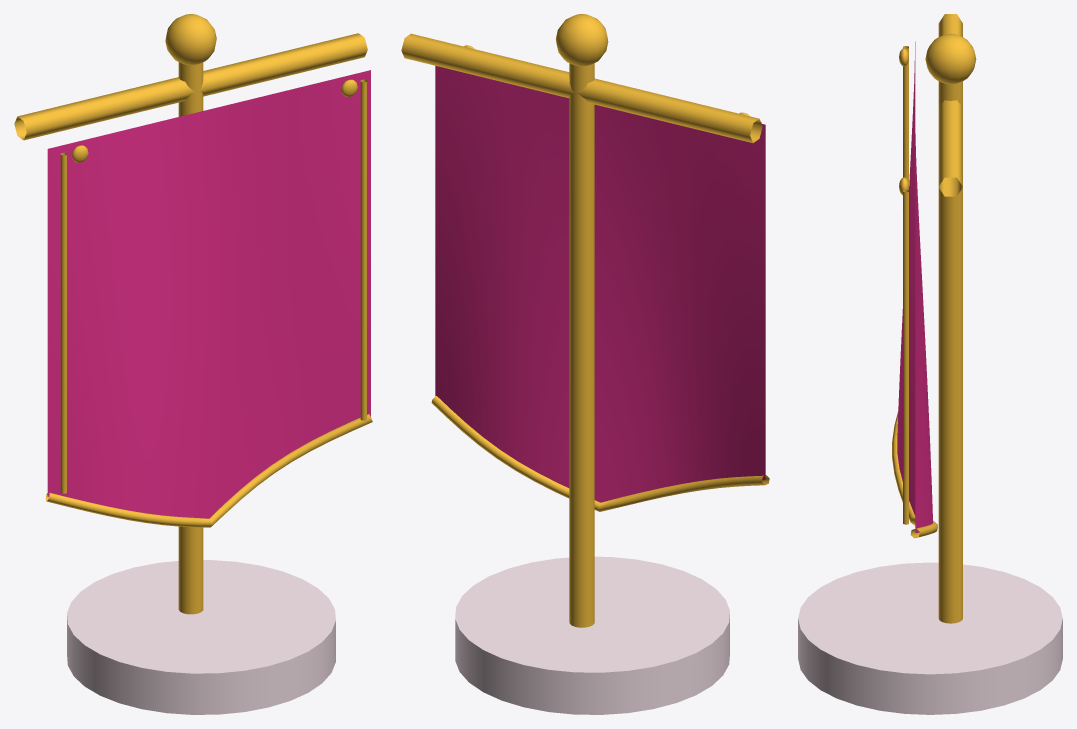
Rendered from chess.banner.house-pink.lod1.glb.
3 renders of one model, left to right at view 1: azimuth 30°, elevation 25°; view 2: azimuth 150°, elevation 25°; view 3: azimuth 270°, elevation 25°, orthographic. The views are drawn at different scales.
Parts seen in each view (by area): view 1: banner_cloth, banner_foot, crossbar, banner_hem, banner_pole, banner_edge_braid.001, banner_edge_braid, banner_finial; view 2: banner_cloth, banner_foot, banner_pole, crossbar, banner_hem, banner_finial; view 3: banner_foot, banner_pole, banner_cloth, crossbar, banner_finial, banner_edge_braid.001, banner_hem, banner_edge_braid.
Part boxes in pixels (box(x1,y1,x2,y2)): banner_cloth: box(47, 70, 370, 518); banner_foot: box(67, 560, 335, 714); crossbar: box(14, 33, 367, 140); banner_hem: box(45, 414, 372, 527); banner_pole: box(178, 62, 203, 614); banner_edge_braid.001: box(360, 79, 366, 420); banner_edge_braid: box(60, 152, 66, 493); banner_finial: box(165, 14, 216, 65); banner_cloth: box(435, 66, 765, 502); banner_foot: box(455, 556, 729, 714); banner_pole: box(569, 63, 594, 627); crossbar: box(401, 33, 762, 142); banner_hem: box(431, 396, 769, 511); banner_finial: box(556, 14, 608, 66); banner_foot: box(798, 562, 1062, 714); banner_pole: box(938, 81, 962, 623); banner_cloth: box(897, 41, 932, 533); crossbar: box(938, 14, 962, 196); banner_finial: box(925, 33, 976, 83); banner_edge_braid.001: box(903, 189, 908, 524); banner_hem: box(892, 411, 937, 538); banner_edge_braid: box(903, 46, 908, 189).
Size of the model in its own units: 0.4222 by 0.75 by 0.2889.
